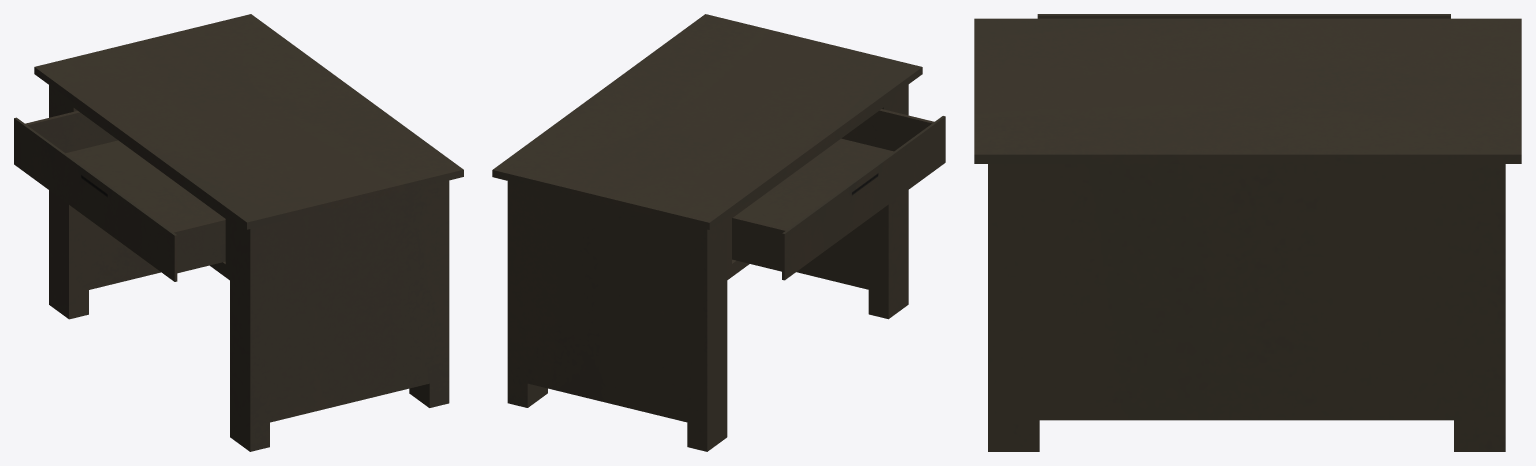
The model's file is Elements_Table-Drawer.fbx.
The picture shows the model from 3 angles, left to right: view 1: azimuth 30°, elevation 25°; view 2: azimuth 150°, elevation 25°; view 3: azimuth 270°, elevation 25°; orthographic projection. The views are drawn at different scales.
Parts seen in each view (by area): view 1: Table_Drawer, Drawer; view 2: Table_Drawer, Drawer; view 3: Table_Drawer, Drawer.
Part boxes in pixels (left/top/right/bottom): Table_Drawer: left=34, top=14, right=463, bottom=451; Drawer: left=14, top=111, right=225, bottom=281; Table_Drawer: left=492, top=14, right=922, bottom=451; Drawer: left=732, top=109, right=945, bottom=280; Table_Drawer: left=974, top=18, right=1521, bottom=451; Drawer: left=1037, top=14, right=1450, bottom=18.
Size of the model in its own units: 2.04 by 1.74 by 2.85.
Materials: 2 (2 with a texture image).
